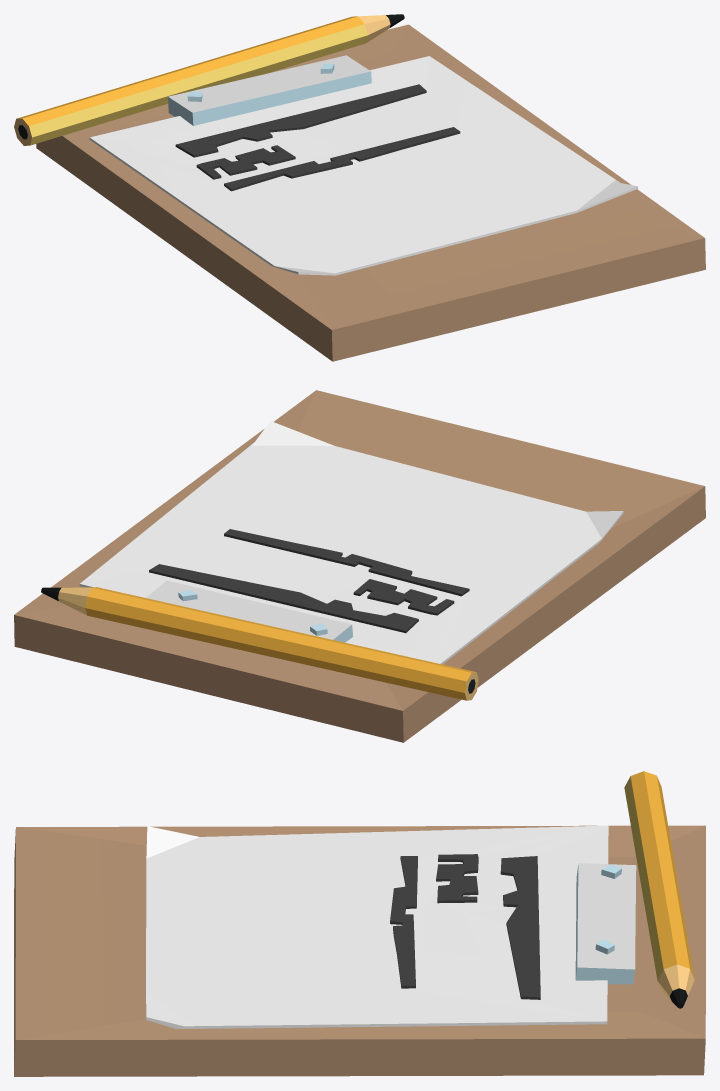
The model's file is _ClipBoard.fbx.
3 renders of one model, top to bottom at view 1: azimuth 30°, elevation 25°; view 2: azimuth 150°, elevation 25°; view 3: azimuth 270°, elevation 25°, orthographic. The views are drawn at different scales.
Visible parts, largest first — view 1: _Clipboard; view 2: _Clipboard; view 3: _Clipboard.
Boxes of the visible parts, x1,y1,x2,y2 form: _Clipboard: (14, 14, 705, 361); _Clipboard: (14, 390, 705, 742); _Clipboard: (14, 771, 705, 1076).
Size of the model in its own units: 0.3736 by 0.0554 by 0.4564.
